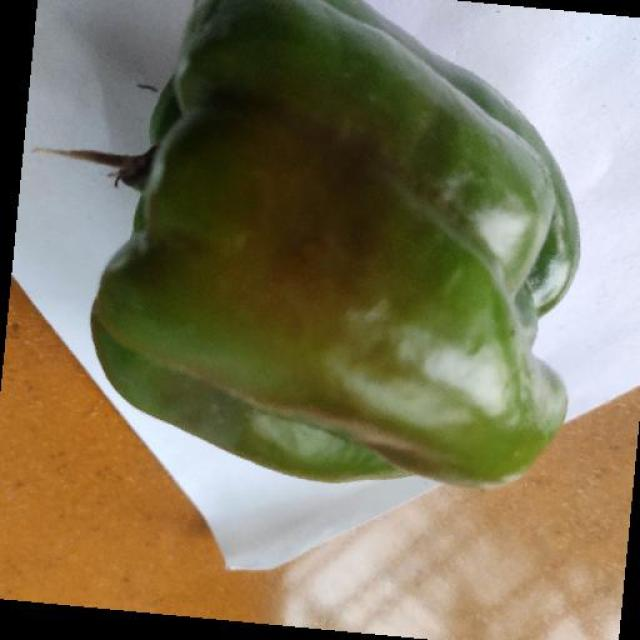Stale_Capsicum: (127, 2, 547, 496)
